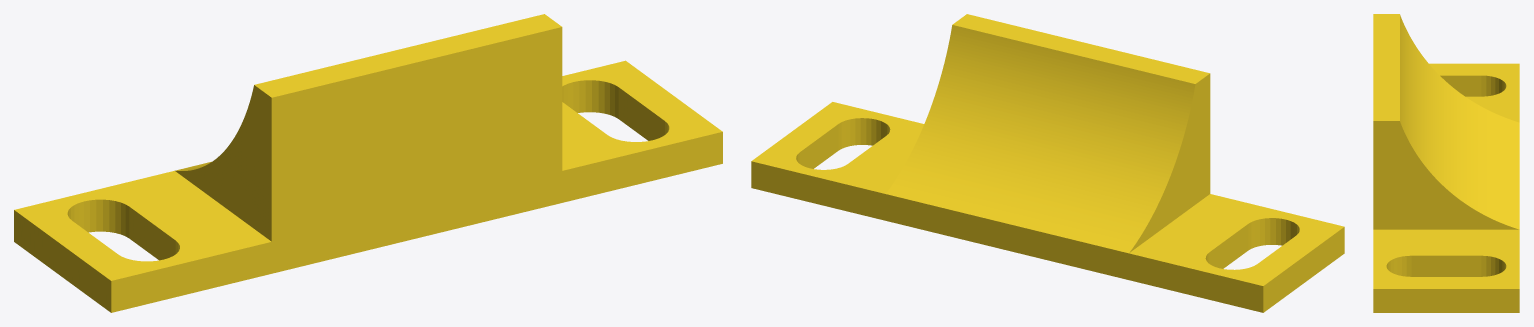
File: openscad_cabinet-latch-catch.glb
3 renders of one model, left to right at view 1: azimuth 30°, elevation 25°; view 2: azimuth 150°, elevation 25°; view 3: azimuth 270°, elevation 25°, orthographic. The views are drawn at different scales.
Parts seen in each view (by area): view 1: object; view 2: object; view 3: object.
Boxes of the visible parts, x1,y1,x2,y2 form: object: (14, 14, 722, 312); object: (751, 14, 1344, 312); object: (1373, 14, 1519, 312).
Bounding box in the file's own units: 40 × 11 × 11.
